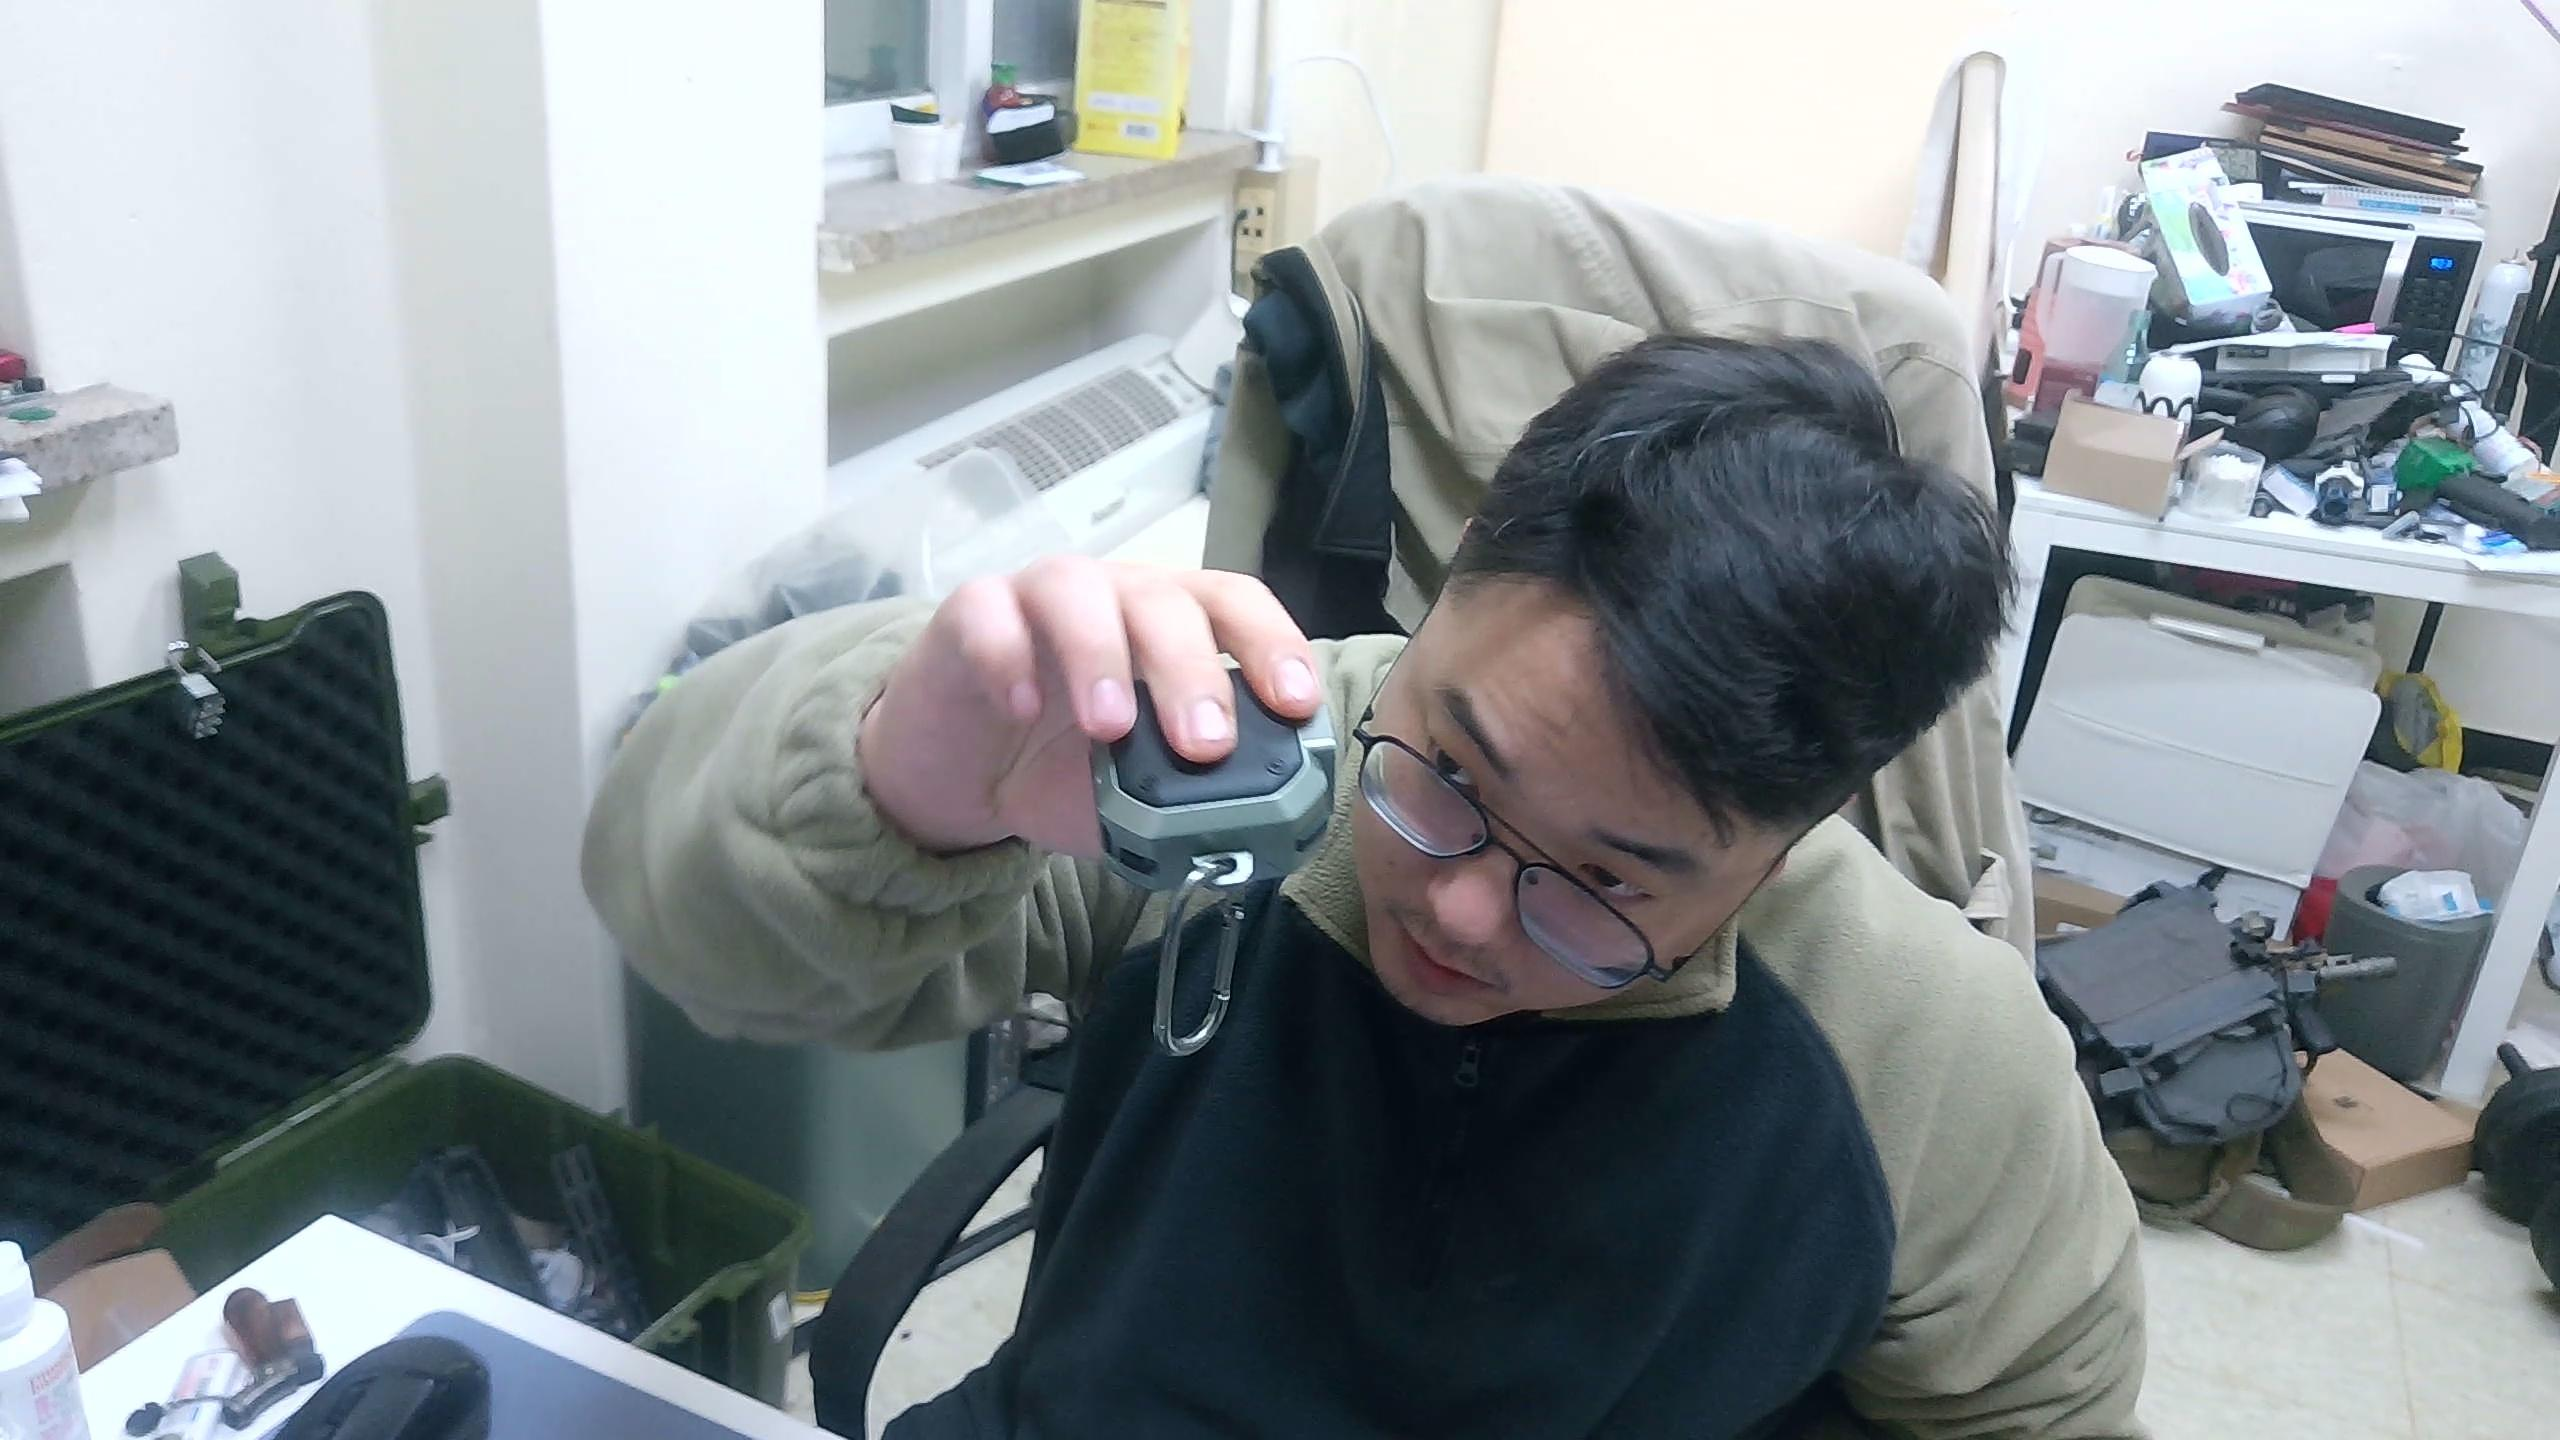blue_pliers: (1090, 649, 1340, 1058)
